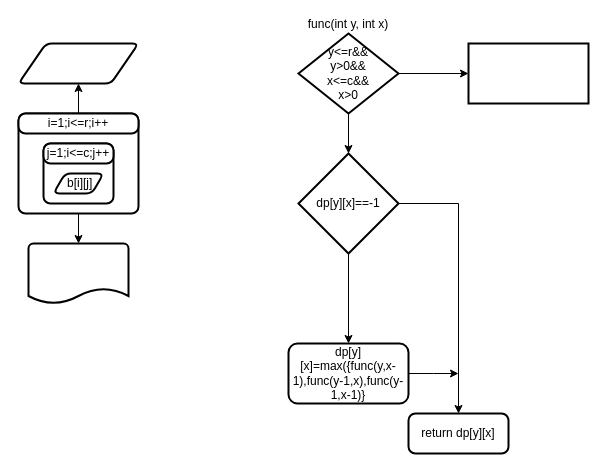
Image size: 606x472. Some labels were removed from this diagram. Each missing label, with the centre of its shape:
func(r,c);: (x=78, y=273)
r, c: (x=78, y=63)
return -1: (x=528, y=73)
